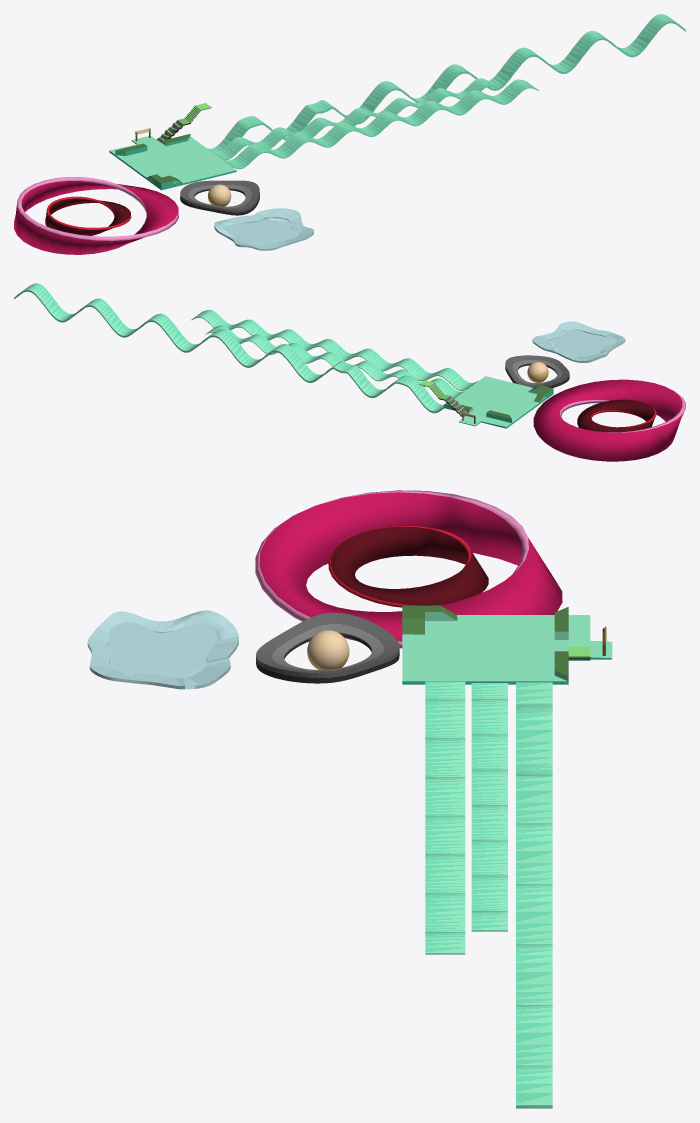
Rendered from NEWPARK.fbx.
3 views of the same model, one above another, from view 1: azimuth 30°, elevation 25°; view 2: azimuth 150°, elevation 25°; view 3: azimuth 270°, elevation 25° (orthographic). The views are drawn at different scales.
Parts seen in each view (by area): view 1: Cube.002, BezierCurve.003, Plane, BezierCurve, BezierCurve.001, BezierCurve.002, Cube.003, Cube.001, Sphere; view 2: Cube.002, BezierCurve.003, Plane, BezierCurve, BezierCurve.001, BezierCurve.002, Cube.001, Cube.003, Sphere; view 3: Cube.002, BezierCurve.003, Plane, BezierCurve, BezierCurve.001, BezierCurve.002, Cube.001, Cube.003, Sphere.
Part boxes in pixels (left/top/right/bottom): Cube.002: left=14, top=177, right=178, bottom=254; BezierCurve.003: left=207, top=14, right=685, bottom=151; Plane: left=109, top=118, right=236, bottom=190; BezierCurve: left=220, top=79, right=538, bottom=169; BezierCurve.001: left=214, top=208, right=313, bottom=250; BezierCurve.002: left=211, top=78, right=498, bottom=160; Cube.003: left=180, top=180, right=259, bottom=215; Cube.001: left=45, top=196, right=131, bottom=235; Sphere: left=208, top=184, right=231, bottom=206; Cube.002: left=533, top=379, right=685, bottom=461; BezierCurve.003: left=14, top=283, right=443, bottom=413; Plane: left=438, top=376, right=553, bottom=428; BezierCurve: left=191, top=309, right=478, bottom=390; BezierCurve.001: left=532, top=321, right=625, bottom=362; BezierCurve.002: left=205, top=325, right=464, bottom=398; Cube.001: left=577, top=399, right=656, bottom=432; Cube.003: left=505, top=355, right=569, bottom=387; Sphere: left=527, top=362, right=548, bottom=382; Cube.002: left=255, top=490, right=562, bottom=648; BezierCurve.003: left=516, top=682, right=552, bottom=1108; Plane: left=402, top=606, right=612, bottom=684; BezierCurve: left=425, top=681, right=465, bottom=954; BezierCurve.001: left=87, top=610, right=238, bottom=689; BezierCurve.002: left=471, top=683, right=507, bottom=931; Cube.001: left=328, top=525, right=488, bottom=607; Cube.003: left=256, top=612, right=399, bottom=683; Sphere: left=307, top=630, right=349, bottom=669.
Bounding box in the file's own units: 4481 × 308 × 1630.
